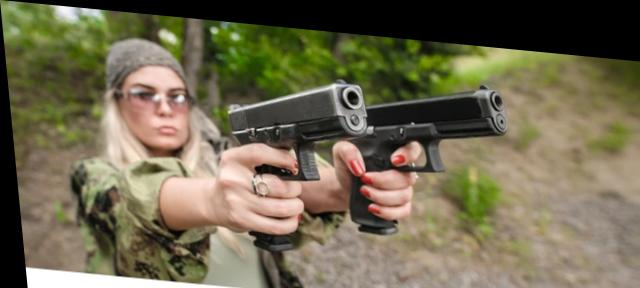other: (60, 34, 276, 275)
